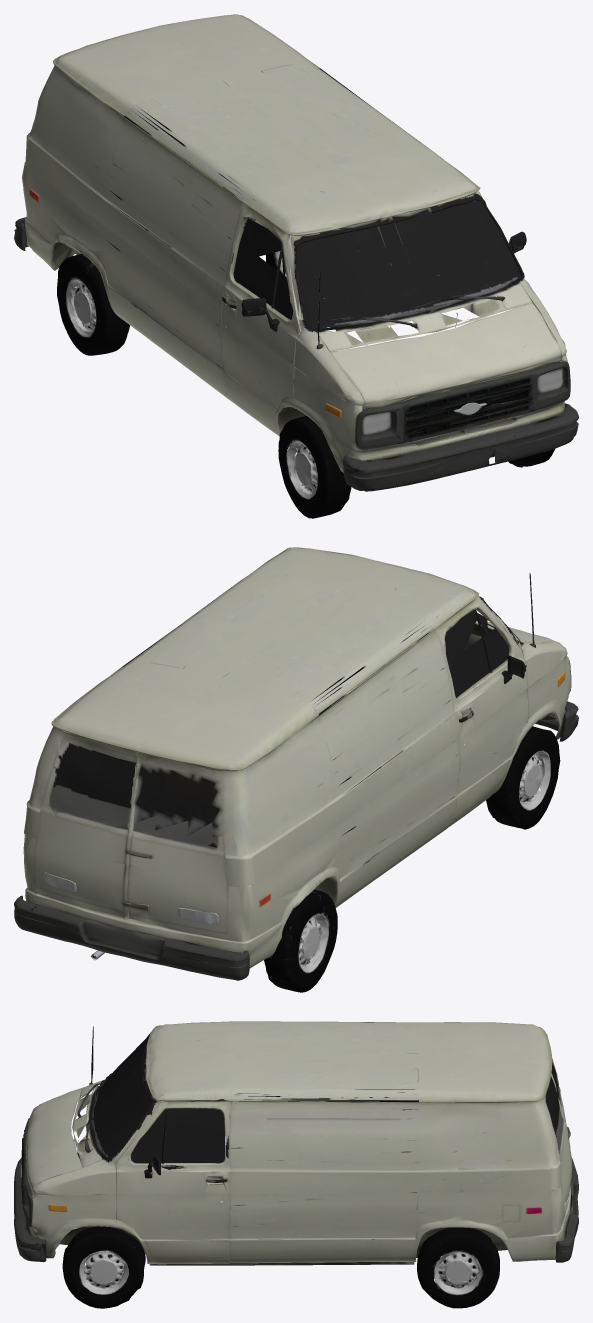
Rendered from van-v4.glb.
The picture shows the model from 3 angles, top to bottom: view 1: azimuth 30°, elevation 25°; view 2: azimuth 150°, elevation 25°; view 3: azimuth 270°, elevation 25°; orthographic projection. The views are drawn at different scales.
Parts seen in each view (by area): view 1: body, wheel_fl_mesh, wheel_rl_mesh; view 2: body, wheel_rl_mesh, wheel_fl_mesh; view 3: body, wheel_rr_mesh, wheel_fr_mesh.
Boxes of the visible parts, x1,y1,x2,y2 form: body: (14, 14, 578, 491); wheel_fl_mesh: (278, 415, 351, 518); wheel_rl_mesh: (57, 254, 129, 355); body: (14, 547, 578, 980); wheel_rl_mesh: (264, 889, 337, 992); wheel_fl_mesh: (486, 726, 560, 829); body: (14, 1021, 578, 1265); wheel_rr_mesh: (417, 1227, 499, 1308); wheel_fr_mesh: (62, 1226, 145, 1308).
Size of the model in its own units: 2.43 by 2.15 by 5.2.
1 material, 1 textured.
